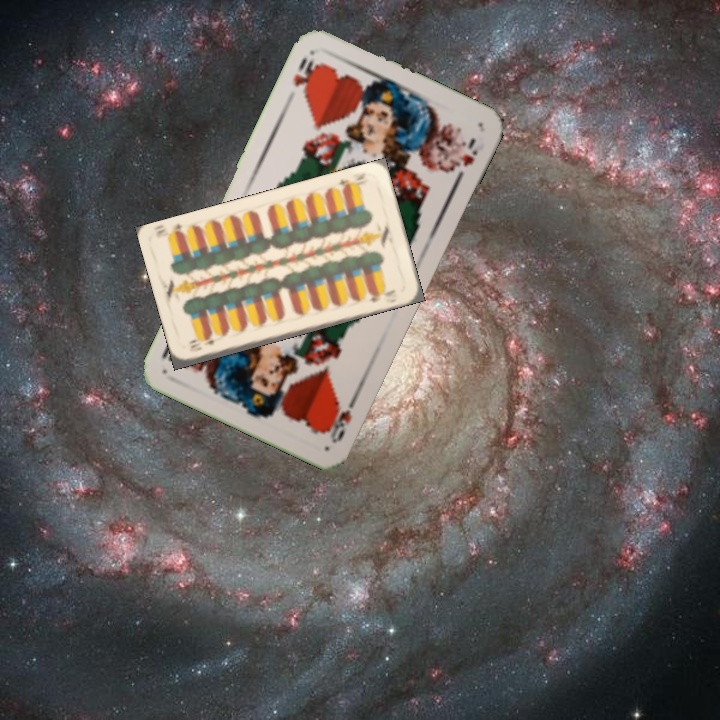E10: (334, 169, 368, 193), (185, 335, 217, 355)
HO: (323, 391, 360, 446), (289, 53, 321, 100)
